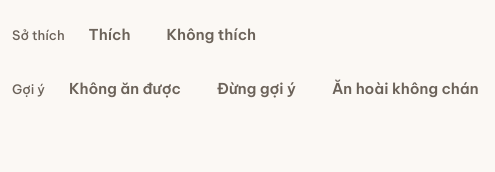
Test: DishPreferenceControls (M3-T6 — nửa còn thiếu của E7-T5) › ghi thất bại: trạng thái quay về giá trị cũ và nói rõ là chưa lưu được
Click the button with aria-label "Thích Canh chua cá lóc" at point(110, 35), box [73,12,146,58]
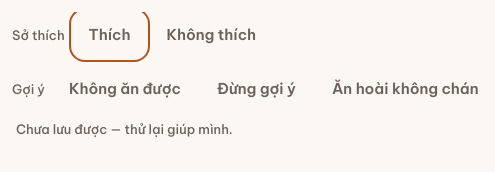
Check: the text "Chưa lưu được — thử lại giúp mình." is shown, box [16,121,233,137]
